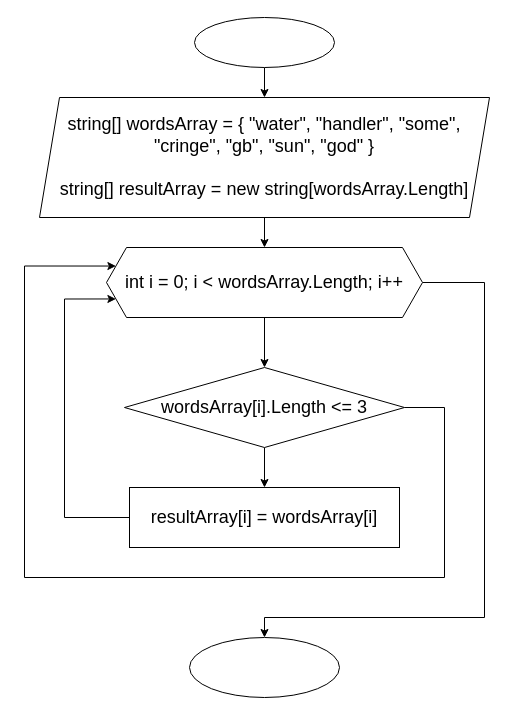
Image size: 510x715. Some labels were removed from this diagram. Each missing label, with the centre of its shape:
End: (264,667)
Start: (264,42)
